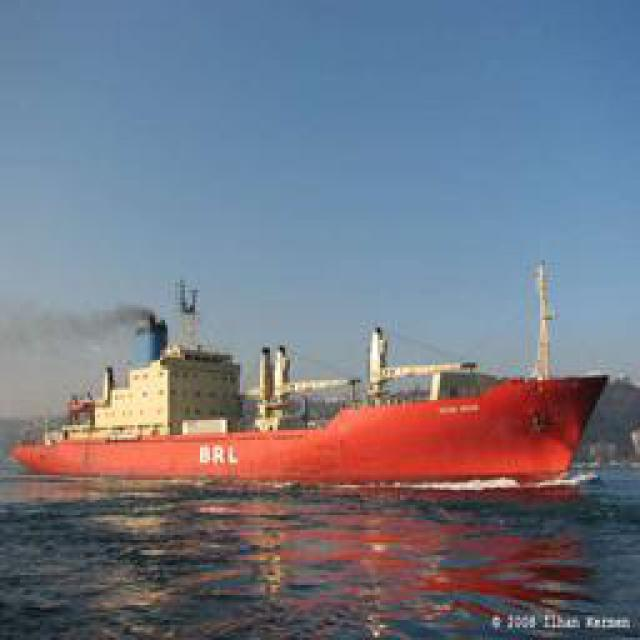Ship: (13, 355, 608, 490)
